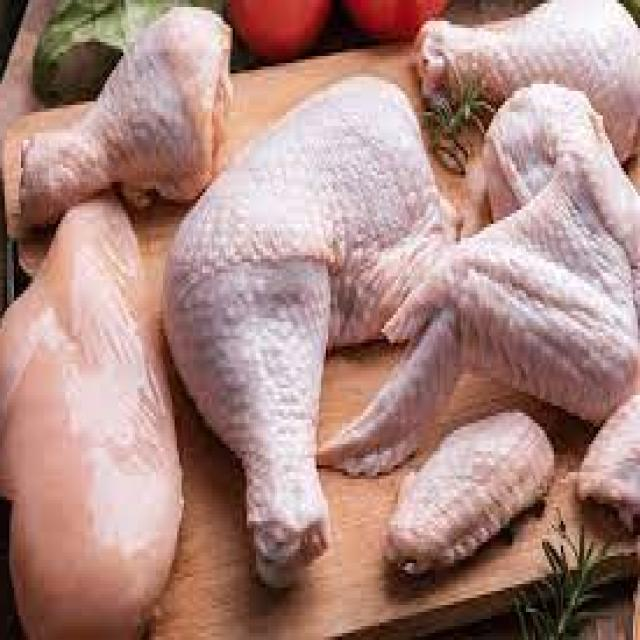Chicken: (163, 66, 455, 590), (313, 78, 640, 503), (0, 180, 189, 640), (7, 7, 246, 220), (401, 0, 640, 165), (380, 403, 556, 581), (570, 386, 640, 532)
Rosemary: (486, 507, 626, 640), (416, 70, 500, 176)
Tomato: (227, 0, 333, 65), (338, 0, 452, 45)
